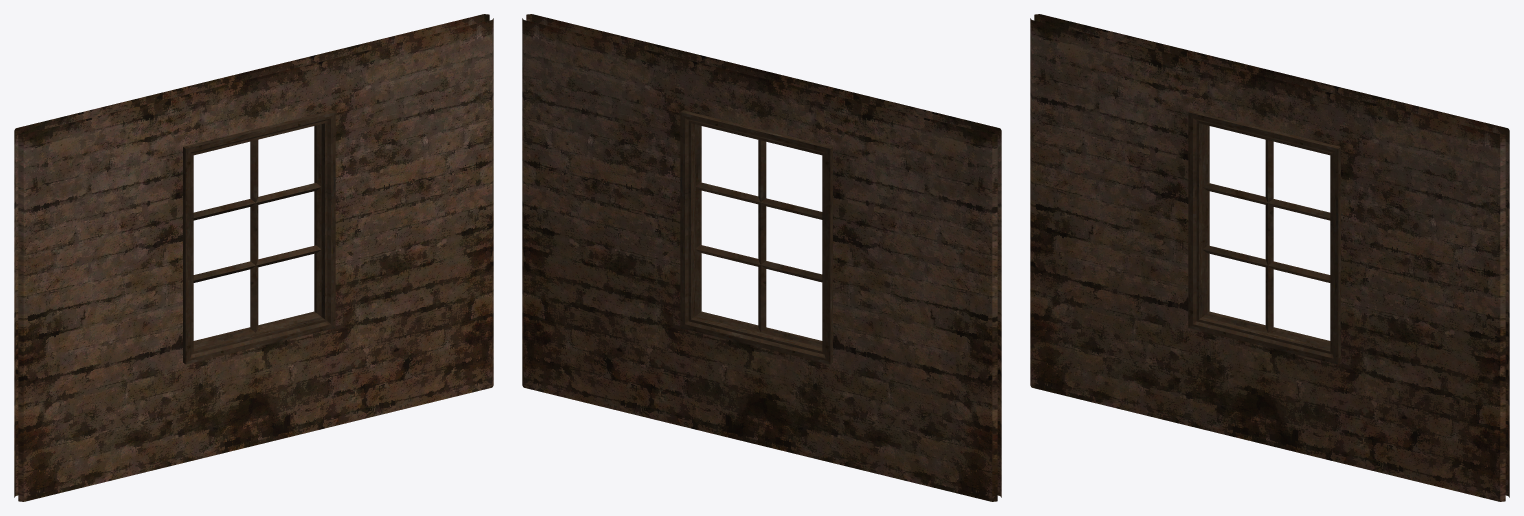
The model's file is window_1_single_no_glass.fbx.
The picture shows the model from 3 angles, left to right: view 1: azimuth 30°, elevation 25°; view 2: azimuth 150°, elevation 25°; view 3: azimuth 330°, elevation 25°; orthographic projection.
Visible parts, largest first — view 1: window_1_single_no_glass; view 2: window_1_single_no_glass; view 3: window_1_single_no_glass.
Part boxes in pixels (x1,y1,x2,y2): window_1_single_no_glass: (14, 14, 493, 501); window_1_single_no_glass: (522, 14, 1001, 501); window_1_single_no_glass: (1030, 14, 1509, 501).
Size of the model in its own units: 4.06 by 3 by 0.2.
